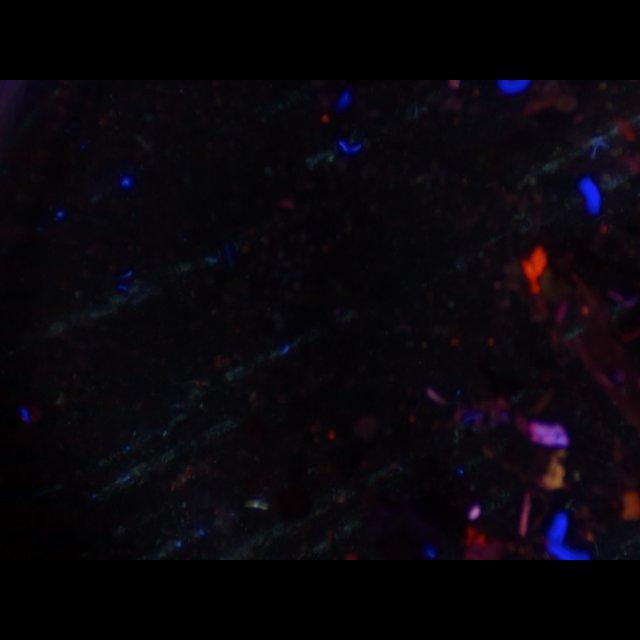microbeads: (241, 497, 269, 513)
